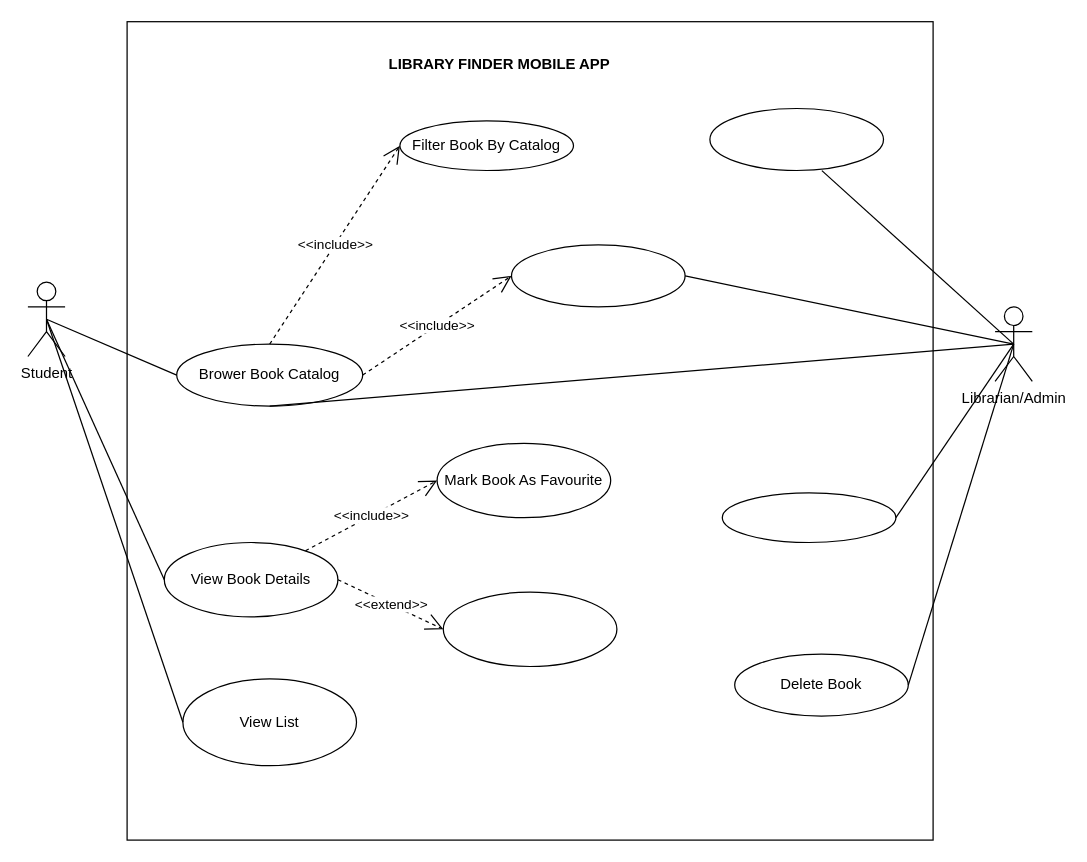
Some shapes in this 1087 by 862 pixel diagram are drawn without their labels. Each missing label, with the centre of its shape:
"Add New Book" goes at point (796, 138).
"Search Books" goes at point (597, 275).
"Share Book" goes at point (529, 628).
"Update Book" goes at point (808, 517).
